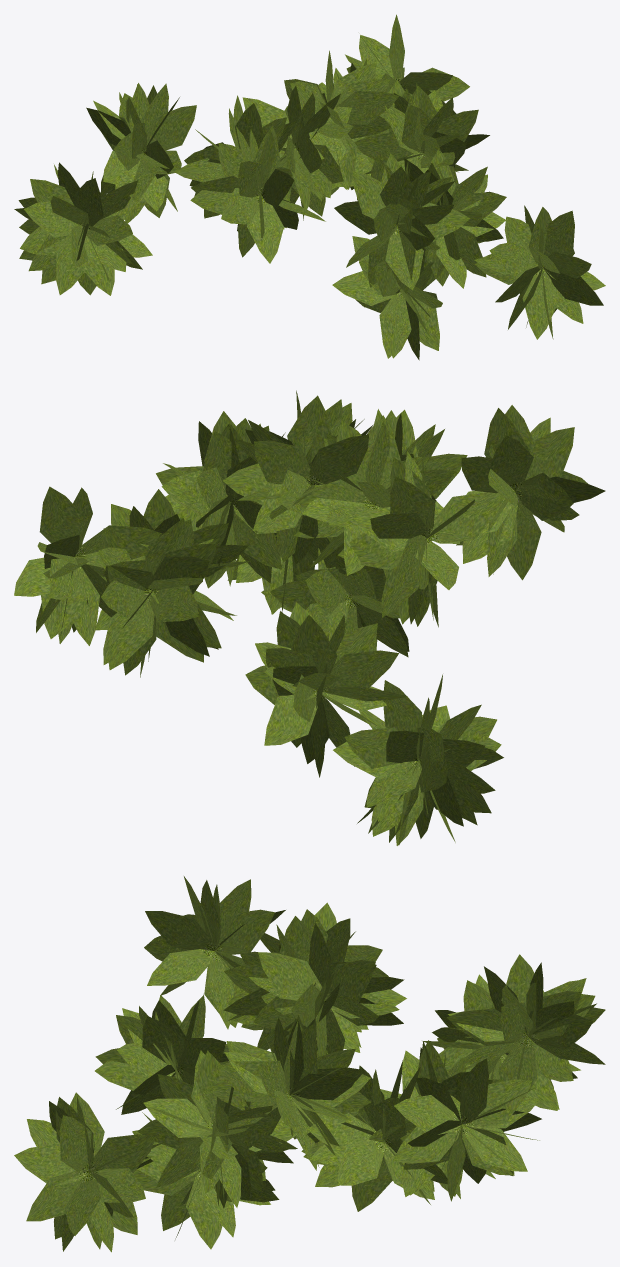
Rendered from hojasaviario.obj.
3 renders of one model, top to bottom at view 1: azimuth 30°, elevation 25°; view 2: azimuth 150°, elevation 25°; view 3: azimuth 270°, elevation 25°, orthographic. The views are drawn at different scales.
Visible parts, largest first — view 1: Plane.1002; view 2: Plane.1002; view 3: Plane.1002.
Boxes of the visible parts, x1,y1,x2,y2 form: Plane.1002: [14, 14, 605, 360]; Plane.1002: [14, 390, 605, 845]; Plane.1002: [14, 876, 605, 1252].
Size of the model in its own units: 12.9 by 7.55 by 14.38.
